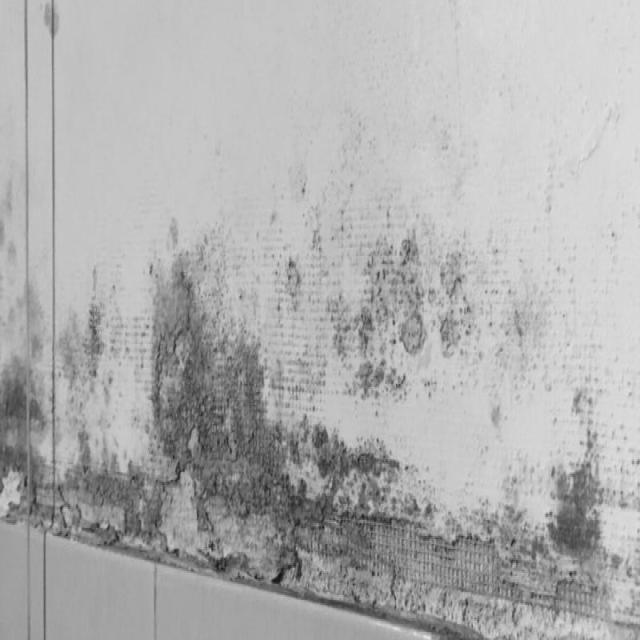stain marks: (0, 91, 640, 640)
